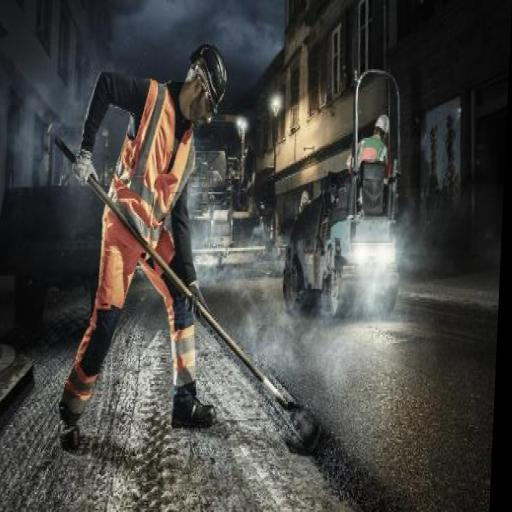safety_boots: (40, 404, 102, 454), (167, 383, 215, 441)
